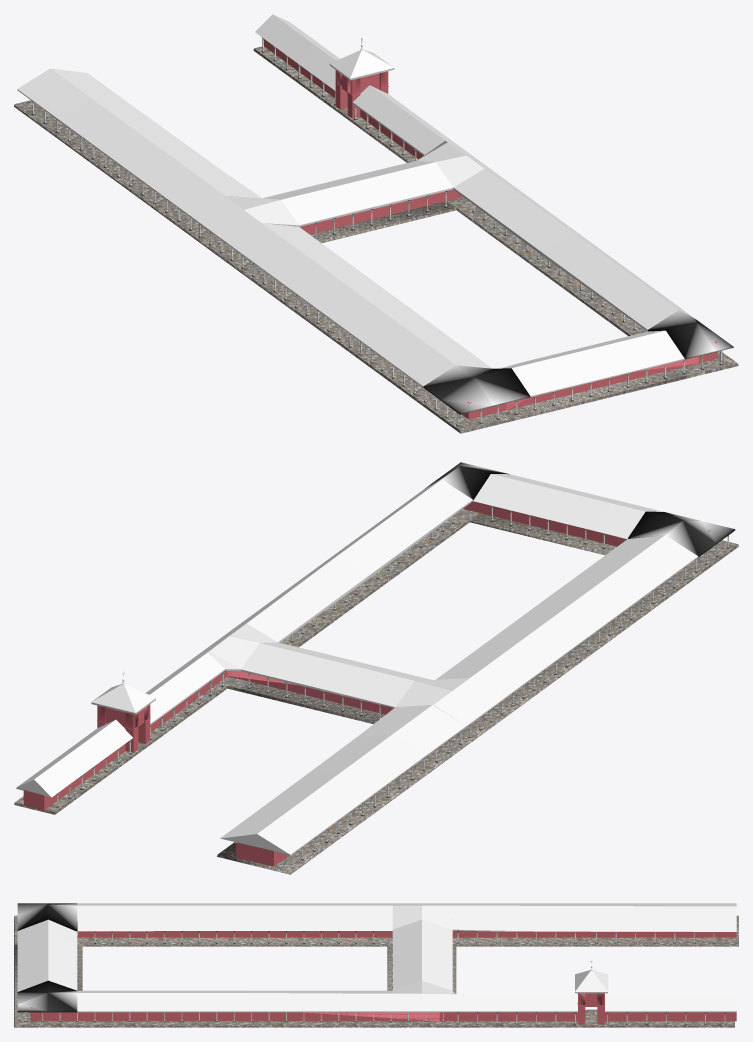
File: Colegio.fbx
The picture shows the model from 3 angles, top to bottom: view 1: azimuth 30°, elevation 25°; view 2: azimuth 150°, elevation 25°; view 3: azimuth 270°, elevation 25°; orthographic projection. The views are drawn at different scales.
Visible parts, largest first — view 1: Cube.036, Cube.001, Cube.014, Chao.003, Cube.012, Cube.040, Chao.002, Cube.038, Cube.003, Cube.037, Chao.005, Cube.013 (+4 smaller); view 2: Cube.036, Cube.001, Cube.014, Chao.003, Cube.012, Cube.003, Cube.040, Chao.002, Cube.037, Cube.038, Chao.005, Cube.013 (+5 smaller); view 3: Cube.036, Cube.001, Cube.014, Chao.003, Chao.002, Cube.003, Cube.015, Cube.012, Cube.040, Cube.038, Cube.037, Cube.004 (+8 smaller).
Part boxes in pixels (x1,y1,x2,y2): Cube.036: (229, 223, 491, 387); Cube.001: (17, 68, 261, 217); Cube.014: (453, 169, 694, 331); Chao.003: (14, 100, 533, 433); Cube.012: (263, 160, 453, 226); Cube.040: (497, 330, 684, 397); Chao.002: (253, 46, 738, 378); Cube.038: (423, 310, 733, 414); Cube.003: (255, 14, 464, 158); Cube.037: (192, 142, 500, 244); Chao.005: (310, 201, 686, 415); Cube.013: (300, 189, 698, 410); Cube.036: (435, 535, 698, 699); Cube.001: (220, 704, 465, 855); Cube.014: (230, 479, 472, 642); Chao.003: (217, 540, 738, 874); Cube.012: (241, 642, 431, 707); Cube.003: (16, 651, 240, 797); Cube.040: (473, 474, 663, 539); Chao.002: (14, 509, 478, 814); Cube.037: (192, 623, 503, 727); Cube.038: (425, 462, 735, 557); Chao.005: (238, 513, 616, 723); Cube.013: (227, 501, 626, 714); Cube.036: (77, 903, 392, 931); Cube.001: (452, 903, 736, 931); Cube.014: (77, 990, 392, 1012); Chao.003: (14, 915, 738, 946); Chao.002: (14, 1005, 734, 1027); Cube.003: (452, 991, 736, 1012); Cube.015: (30, 1007, 439, 1021); Cube.012: (392, 919, 452, 990); Cube.040: (17, 919, 77, 991); Cube.038: (17, 903, 77, 1012); Cube.037: (392, 903, 452, 1012); Cube.004: (439, 1012, 736, 1021).
Bounding box in the file's own units: 6008 × 1499 × 16648.
